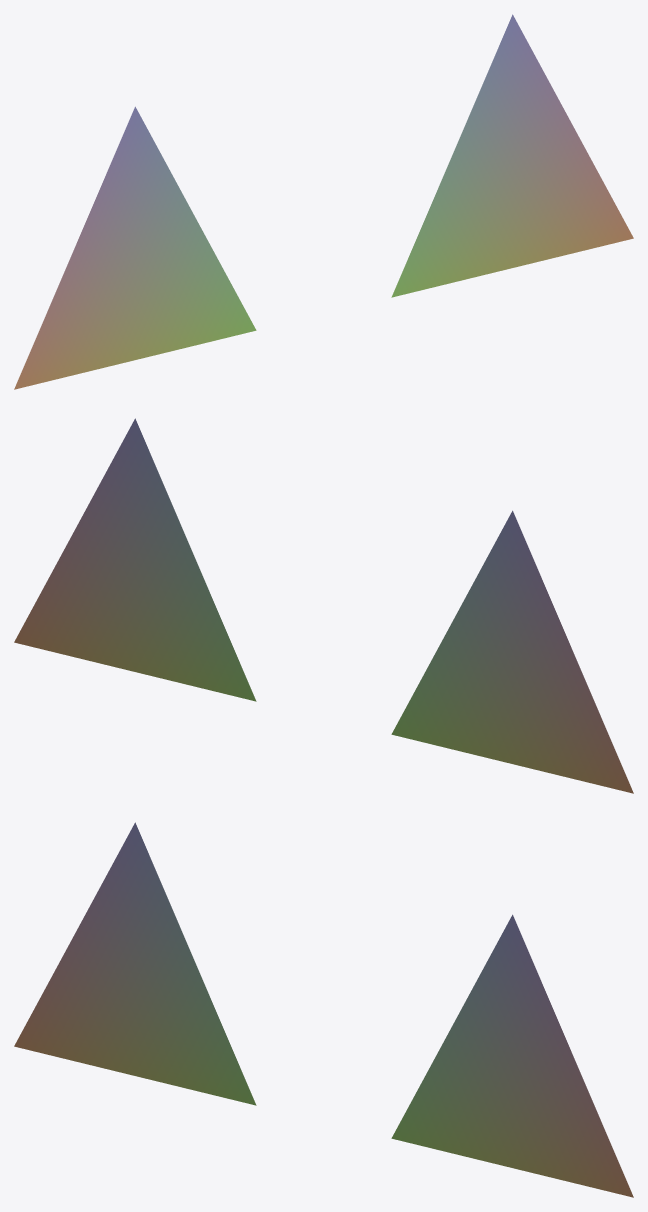
The model's file is c1_tangent_negative_scale.gltf.
The picture shows the model from 3 angles, top to bottom: view 1: azimuth 30°, elevation 25°; view 2: azimuth 150°, elevation 25°; view 3: azimuth 330°, elevation 25°; orthographic projection.
Parts seen in each view (by area): view 1: C1Node0, C1Node1; view 2: C1Node0, C1Node1; view 3: C1Node1, C1Node0.
Part boxes in pixels (box(x1,y1,x2,y2)): C1Node0: box(14, 106, 256, 389); C1Node1: box(391, 14, 633, 297); C1Node0: box(391, 510, 633, 793); C1Node1: box(14, 418, 256, 701); C1Node1: box(391, 914, 633, 1197); C1Node0: box(14, 822, 256, 1105).
Bounding box in the file's own units: 2.3 × 0.9 × 0.
